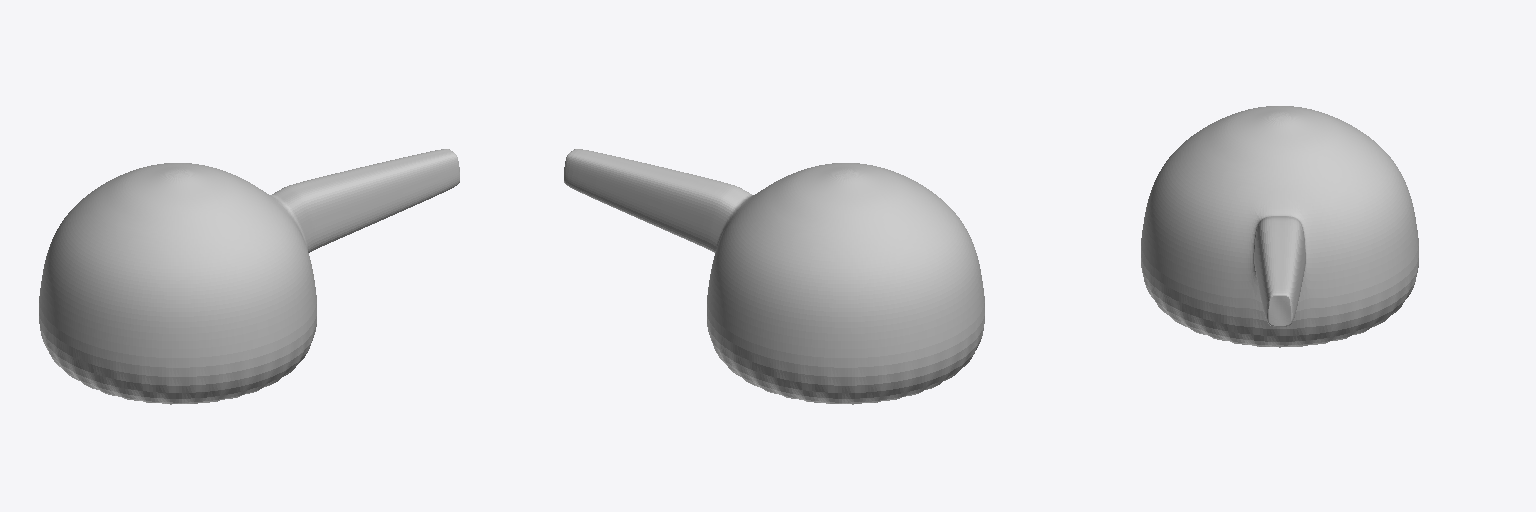
The model's file is Turret.obj.
The picture shows the model from 3 angles: view 1: azimuth 30°, elevation 25°; view 2: azimuth 150°, elevation 25°; view 3: azimuth 270°, elevation 25°; orthographic projection.
Parts seen in each view (by area): view 1: Cylinder; view 2: Cylinder; view 3: Cylinder.
Boxes of the visible parts, x1=… form: Cylinder: x1=39, y1=149, x2=459, y2=404; Cylinder: x1=564, y1=149, x2=984, y2=404; Cylinder: x1=1141, y1=106, x2=1418, y2=347.
Bounding box in the file's own units: 1.85 × 0.9015 × 1.12.